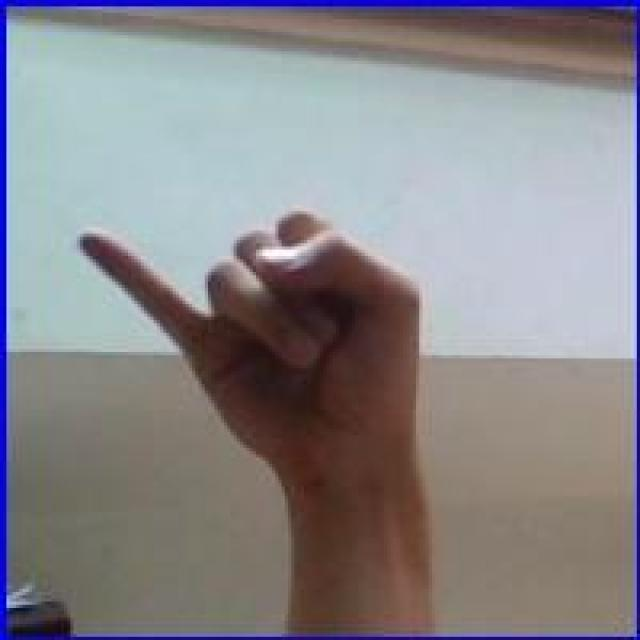J: (67, 202, 442, 483)
